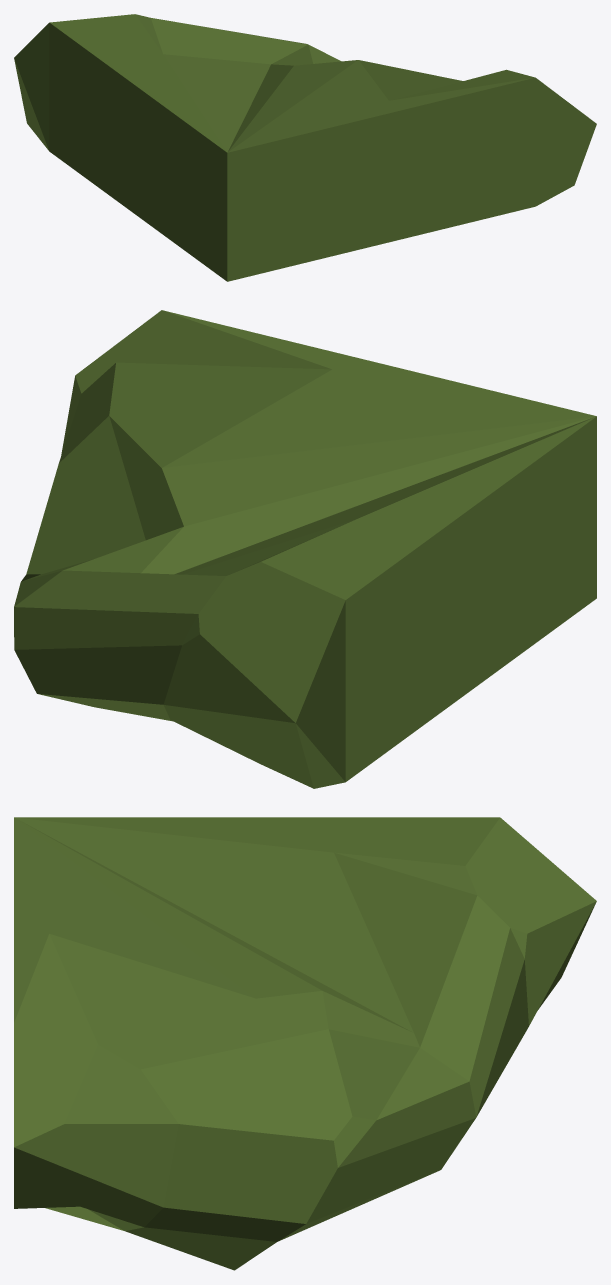
The model's file is LightVegetationEdgeMediumExternalCurve2.fbx.
3 views of the same model, one above another, from view 1: azimuth 30°, elevation 25°; view 2: azimuth 150°, elevation 25°; view 3: azimuth 270°, elevation 25° (orthographic). The views are drawn at different scales.
Visible parts, largest first — view 1: LightVegetationEdgeEdgeMediumExternalCurve2; view 2: LightVegetationEdgeEdgeMediumExternalCurve2; view 3: LightVegetationEdgeEdgeMediumExternalCurve2.
Part boxes in pixels (x1,y1,x2,y2): LightVegetationEdgeEdgeMediumExternalCurve2: (14, 14, 596, 281); LightVegetationEdgeEdgeMediumExternalCurve2: (14, 310, 596, 788); LightVegetationEdgeEdgeMediumExternalCurve2: (14, 817, 596, 1270).
Size of the model in its own units: 599 by 307 by 600.
